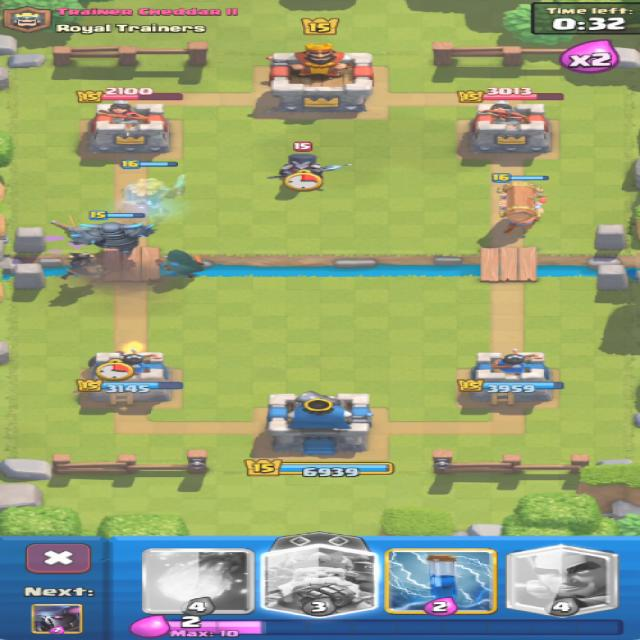Enemy-KingTower: (269, 44, 372, 113)
Enemy-NightWitch: (267, 153, 354, 181)
Enemy-PrincessTower: (87, 97, 169, 154), (468, 100, 550, 154)
